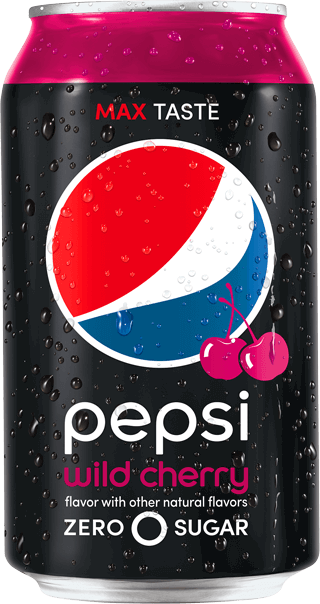pepsi: (42, 137, 275, 367), (42, 145, 275, 367)
